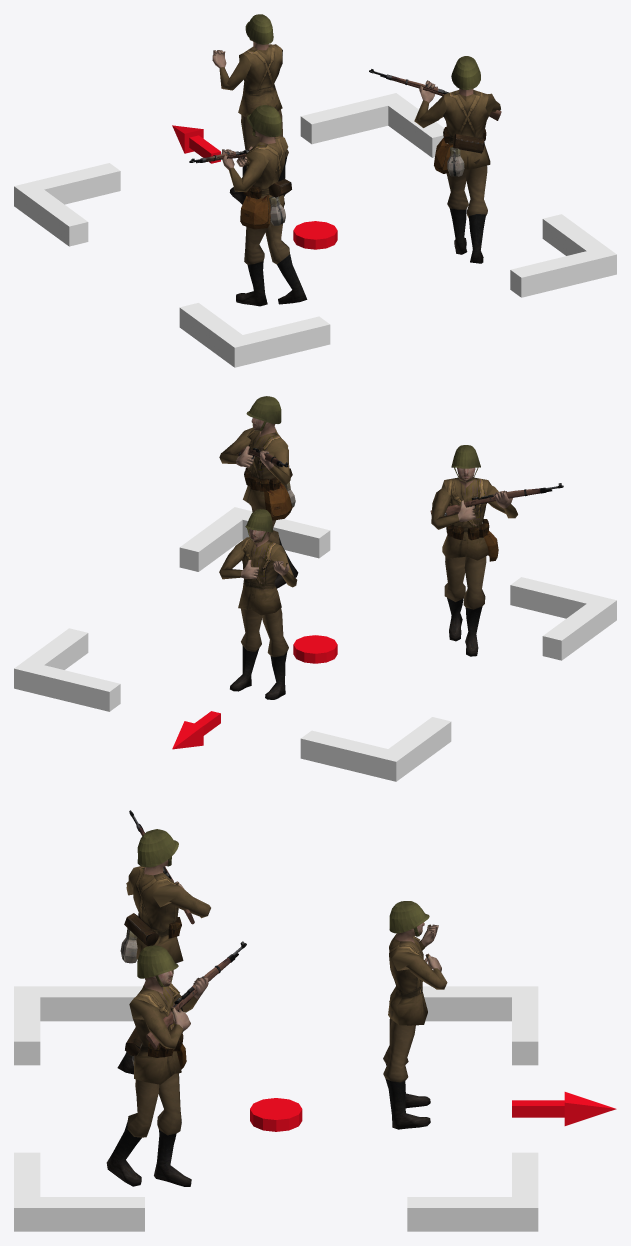
The model's file is cf_sov_eng.obj.
3 renders of one model, top to bottom at view 1: azimuth 30°, elevation 25°; view 2: azimuth 150°, elevation 25°; view 3: azimuth 270°, elevation 25°, orthographic. The views are drawn at different scales.
Parts seen in each view (by area): view 1: i_frame_Cube.002, german_rigged, german_rigged.001, german_rigged.004, pointer_Cylinder, arrow_Cube; view 2: i_frame_Cube.002, german_rigged.001, german_rigged.004, german_rigged, pointer_Cylinder, arrow_Cube; view 3: i_frame_Cube.002, german_rigged, german_rigged.004, german_rigged.001, arrow_Cube, pointer_Cylinder.
Part boxes in pixels (x1=…): i_frame_Cube.002: x1=14, y1=93, x2=616, y2=367; german_rigged: x1=369, y1=56, x2=501, y2=263; german_rigged.001: x1=189, y1=105, x2=307, y2=306; german_rigged.004: x1=212, y1=14, x2=288, y2=204; pointer_Cylinder: x1=293, y1=221, x2=337, y2=249; arrow_Cube: x1=172, y1=125, x2=220, y2=163; i_frame_Cube.002: x1=14, y1=507, x2=616, y2=781; german_rigged.001: x1=430, y1=445, x2=563, y2=656; german_rigged.004: x1=219, y1=509, x2=297, y2=699; german_rigged: x1=219, y1=396, x2=298, y2=588; pointer_Cylinder: x1=293, y1=635, x2=337, y2=663; arrow_Cube: x1=172, y1=711, x2=220, y2=749; i_frame_Cube.002: x1=14, y1=986, x2=538, y2=1231; german_rigged: x1=106, y1=941, x2=246, y2=1186; german_rigged.004: x1=383, y1=901, x2=447, y2=1129; german_rigged.001: x1=117, y1=810, x2=210, y2=1074; arrow_Cube: x1=512, y1=1092, x2=616, y2=1125; pointer_Cylinder: x1=250, y1=1098, x2=302, y2=1131.
Bounding box in the file's own units: 4 × 1.99 × 4.6.
Materials: 2 (2 with a texture image).
